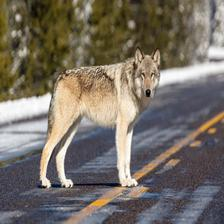WOLF: (44, 45, 161, 184)
